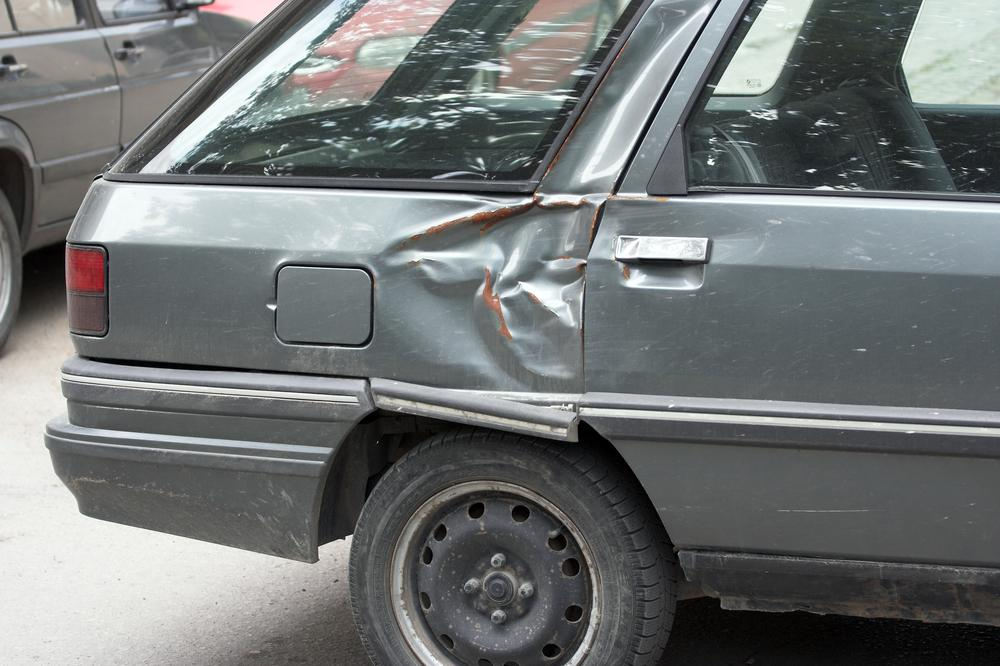dent: (377, 196, 599, 388)
